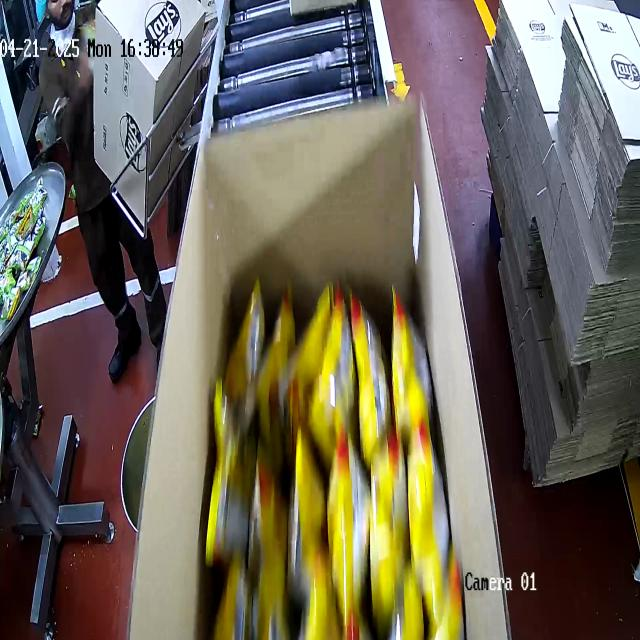SALTED: (208, 265, 461, 640)
